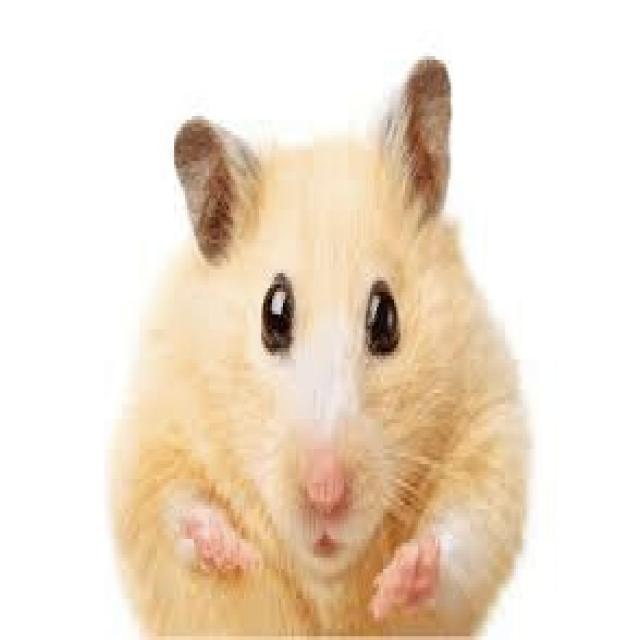hamster: (111, 60, 527, 633)
